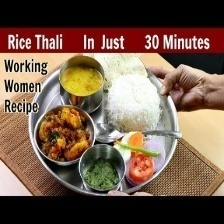dal: (59, 63, 105, 96)
